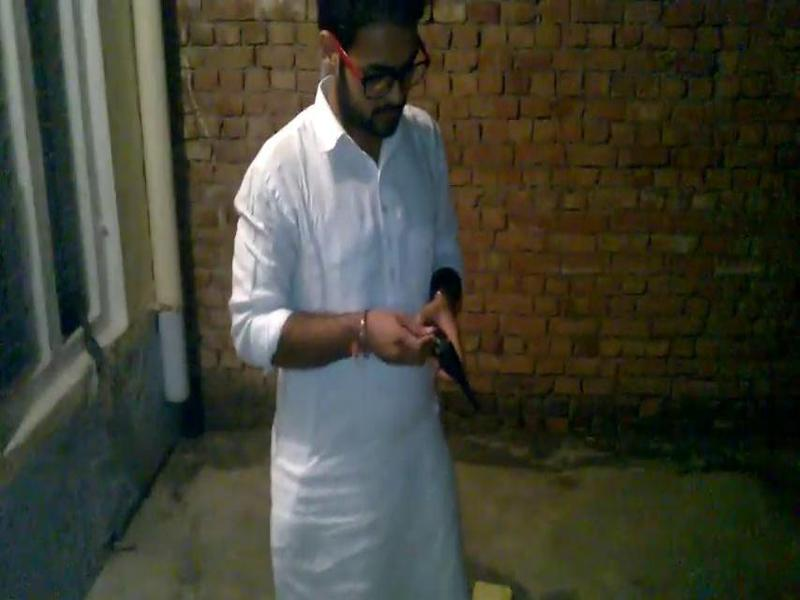Revolver: (402, 320, 502, 435)
